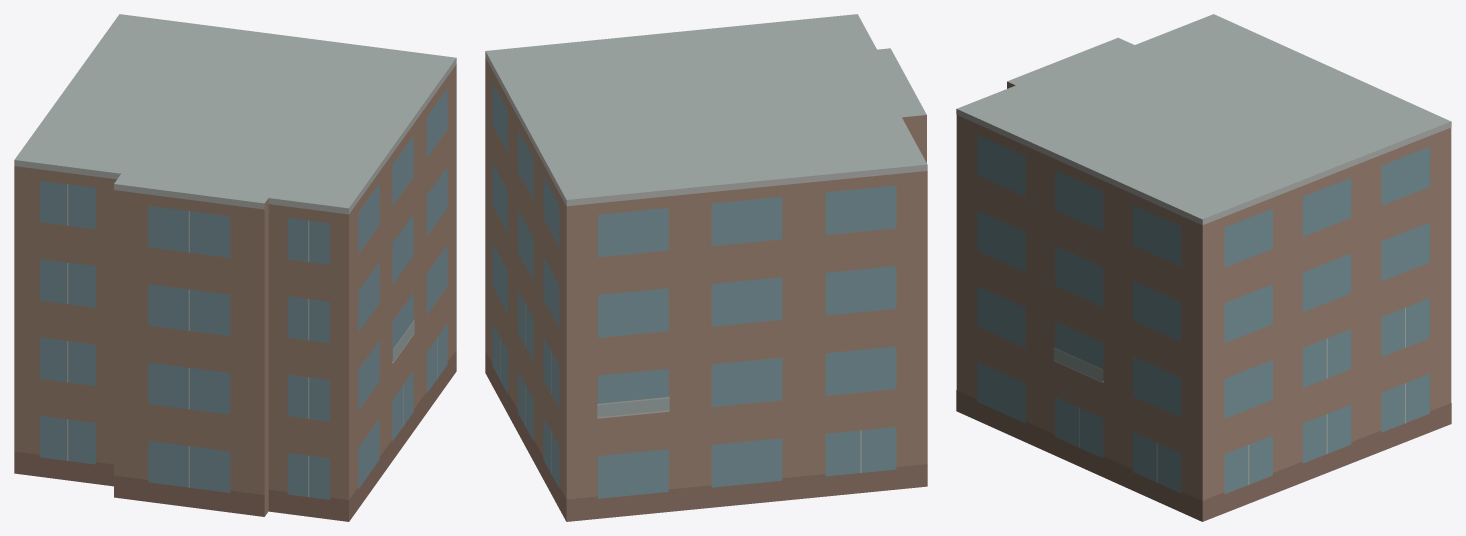
Rendered from survey-upis-32600615.glb.
3 renders of one model, left to right at view 1: azimuth 30°, elevation 25°; view 2: azimuth 150°, elevation 25°; view 3: azimuth 270°, elevation 25°, orthographic. The views are drawn at different scales.
Parts seen in each view (by area): view 1: survey-upis-32600615.tmp; view 2: survey-upis-32600615.tmp; view 3: survey-upis-32600615.tmp.
Boxes of the visible parts, bbox=[...] form: survey-upis-32600615.tmp: bbox=[14, 14, 456, 521]; survey-upis-32600615.tmp: bbox=[485, 14, 927, 521]; survey-upis-32600615.tmp: bbox=[956, 14, 1451, 521].
Bounding box in the file's own units: 18.37 × 12.6 × 18.7.
